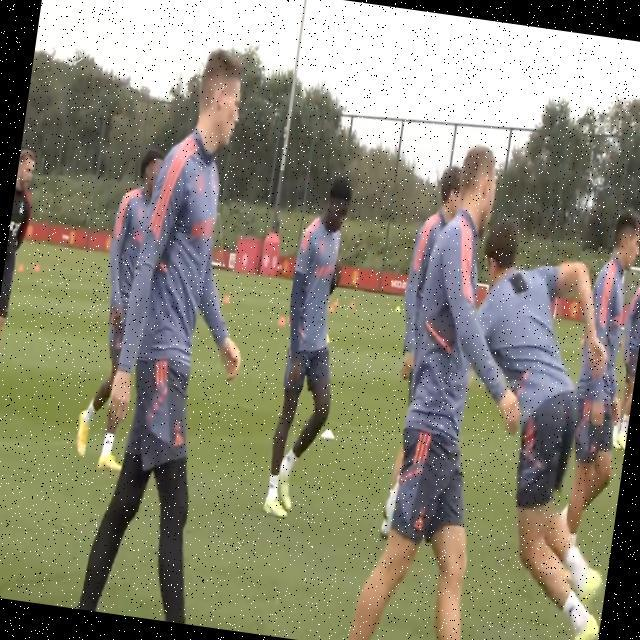Adidas: (171, 432, 186, 450), (413, 517, 425, 533)
